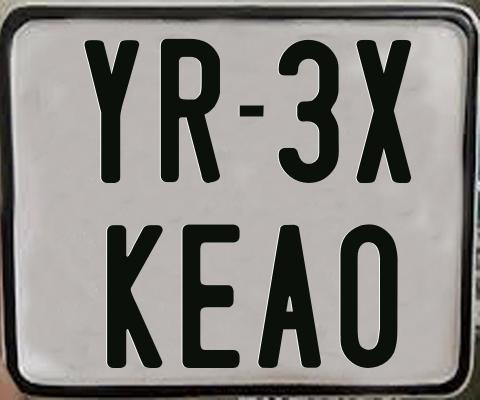0: (340, 224, 403, 370)
3: (276, 37, 338, 180)
A: (255, 222, 321, 368)
E: (180, 224, 242, 369)
K: (106, 225, 165, 371)
R: (158, 36, 221, 185)
X: (357, 38, 412, 185)
Y: (83, 40, 139, 185)
